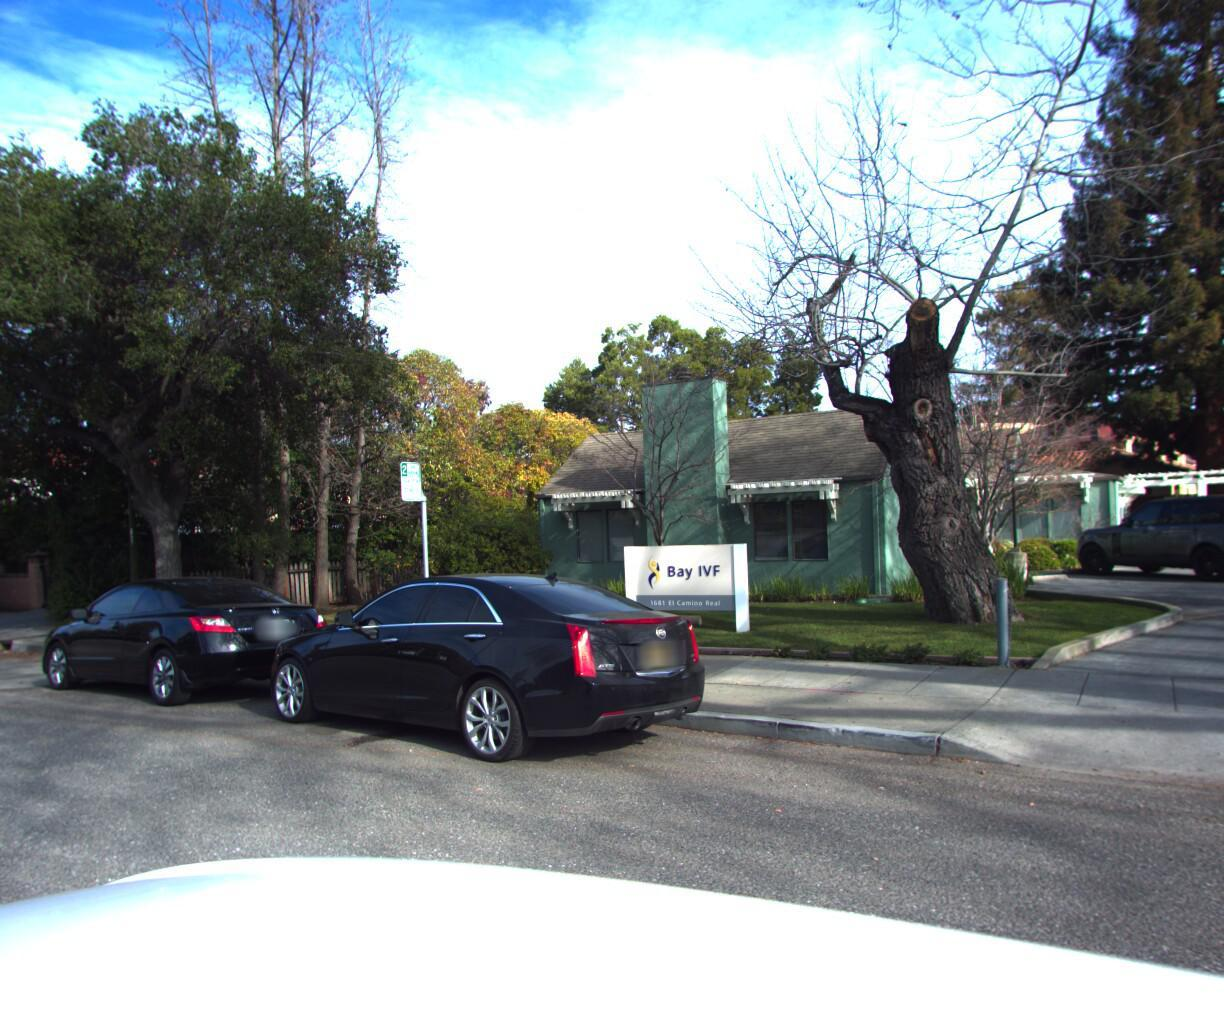car: (229, 560, 747, 810), (14, 561, 358, 723), (1063, 483, 1224, 583)
